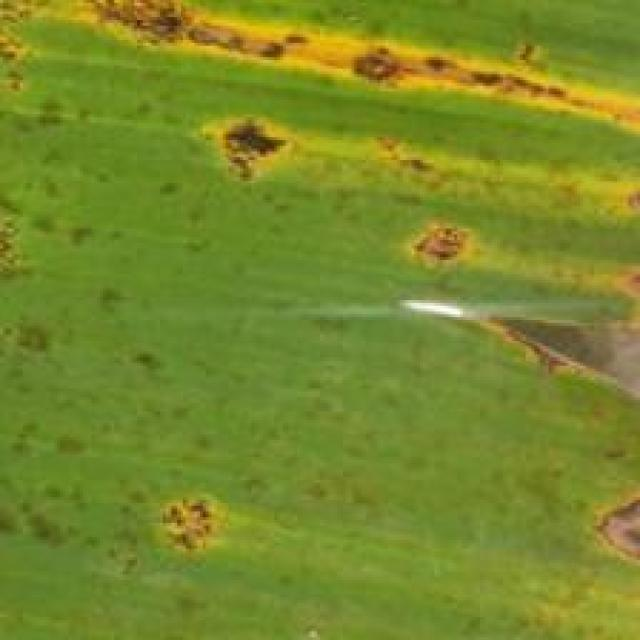Downey_mildrew: (0, 0, 640, 306), (5, 310, 212, 624), (66, 411, 305, 614), (466, 296, 605, 415), (561, 441, 640, 612)
